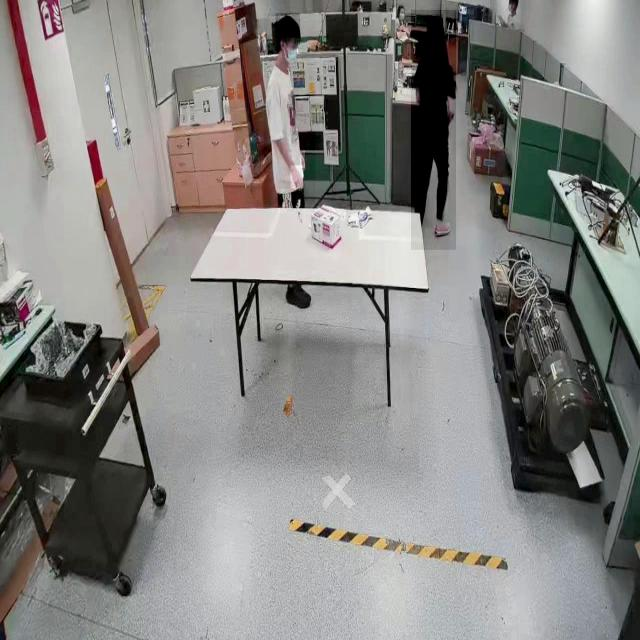face_mask: (281, 38, 302, 70)
hand_noglove: (290, 166, 304, 190), (300, 150, 306, 169)
head_nohelmet: (276, 14, 300, 38), (426, 14, 444, 31), (396, 3, 404, 9)
person: (411, 9, 457, 250), (264, 12, 316, 206)
shoes: (286, 280, 312, 310), (432, 214, 452, 236)
